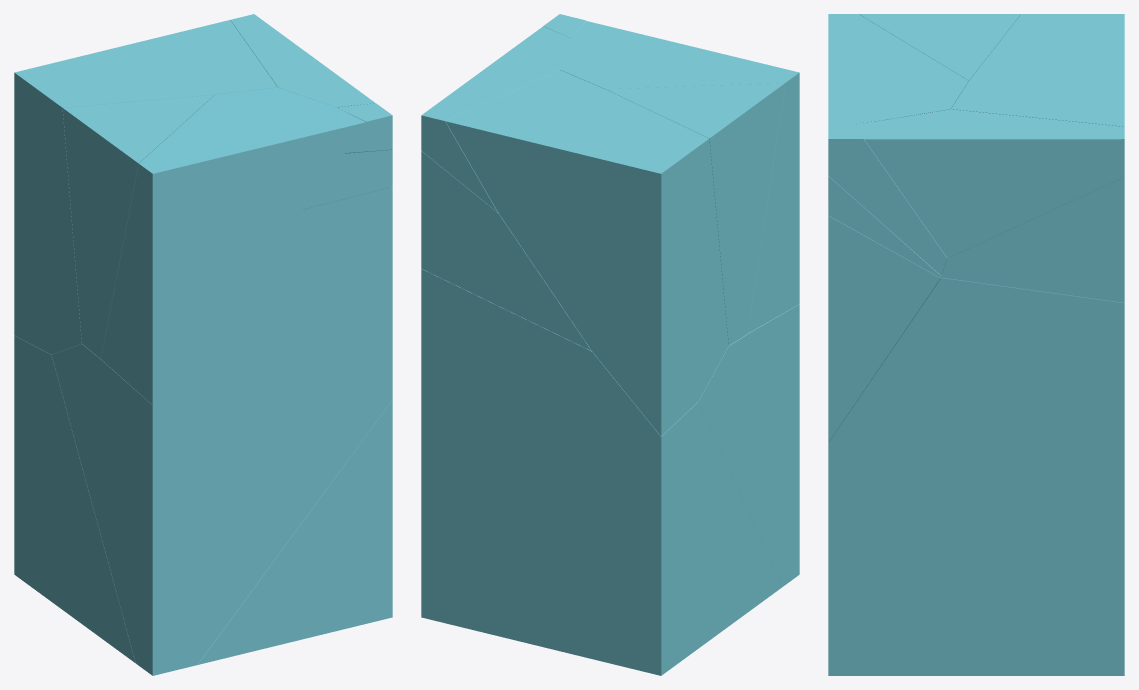
File: broken ice.fbx
The picture shows the model from 3 angles, left to right: view 1: azimuth 30°, elevation 25°; view 2: azimuth 150°, elevation 25°; view 3: azimuth 270°, elevation 25°; orthographic projection. The views are drawn at different scales.
Parts seen in each view (by area): view 1: Cube_cell.008, Cube_cell.002, Cube_cell.004, Cube_cell.003, Cube_cell.007, Cube_cell.006, Cube_cell, Cube_cell.001; view 2: Cube_cell.004, Cube_cell.003, Cube_cell.008, Cube_cell.002, Cube_cell.007, Cube_cell.005, Cube_cell.006, Cube_cell.001; view 3: Cube_cell.004, Cube_cell.006, Cube_cell.003, Cube_cell.005, Cube_cell.008, Cube_cell.002, Cube_cell.001, Cube_cell.007, Cube_cell.
Boxes of the visible parts, x1,y1,x2,y2 form: Cube_cell.008: (51, 187, 392, 675); Cube_cell.002: (101, 87, 365, 404); Cube_cell.004: (14, 335, 392, 664); Cube_cell.003: (14, 20, 277, 354); Cube_cell.007: (62, 94, 214, 358); Cube_cell.006: (230, 14, 375, 107); Cube_cell: (303, 150, 392, 209); Cube_cell.001: (337, 103, 392, 153); Cube_cell.004: (421, 269, 782, 675); Cube_cell.003: (445, 70, 728, 436); Cube_cell.008: (698, 304, 799, 586); Cube_cell.002: (560, 21, 799, 333); Cube_cell.007: (606, 83, 785, 345); Cube_cell.005: (421, 151, 591, 350); Cube_cell.006: (421, 26, 571, 212); Cube_cell.001: (543, 14, 585, 38); Cube_cell.004: (828, 277, 1124, 675); Cube_cell.006: (864, 109, 1124, 258); Cube_cell.003: (951, 14, 1124, 126); Cube_cell.005: (941, 177, 1124, 302); Cube_cell.008: (828, 215, 940, 442); Cube_cell.002: (828, 14, 968, 125); Cube_cell.001: (828, 121, 948, 275); Cube_cell.007: (859, 14, 1020, 80); Cube_cell: (828, 176, 941, 277).
Bounding box in the file's own units: 200 × 400 × 200.
